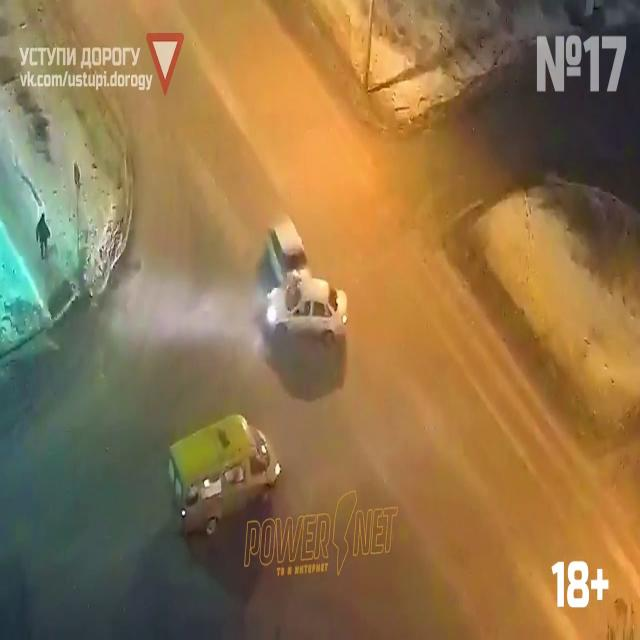accident: (246, 213, 354, 362)
